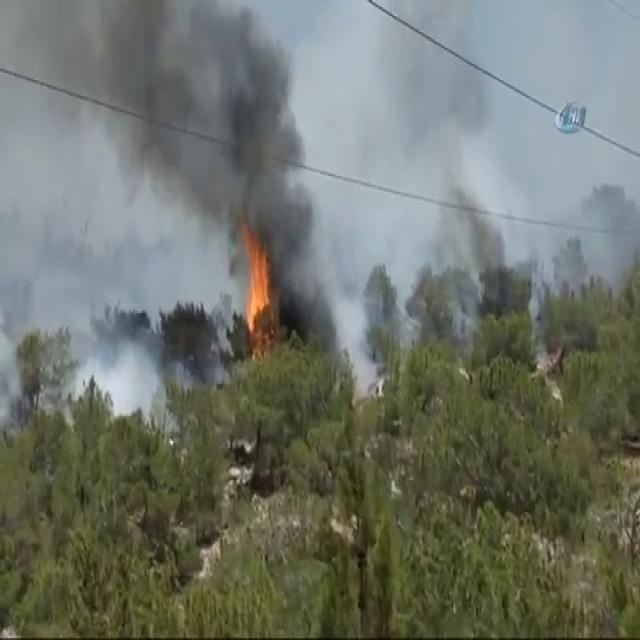Fire: (235, 238, 272, 329)
Smoke: (9, 0, 344, 208), (354, 0, 530, 352)
